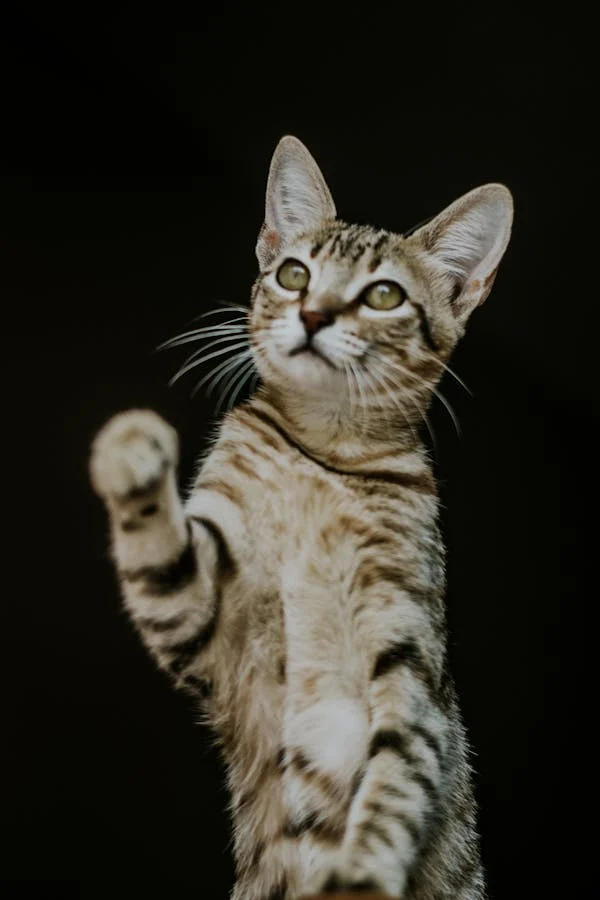Cat: (85, 132, 512, 900)
